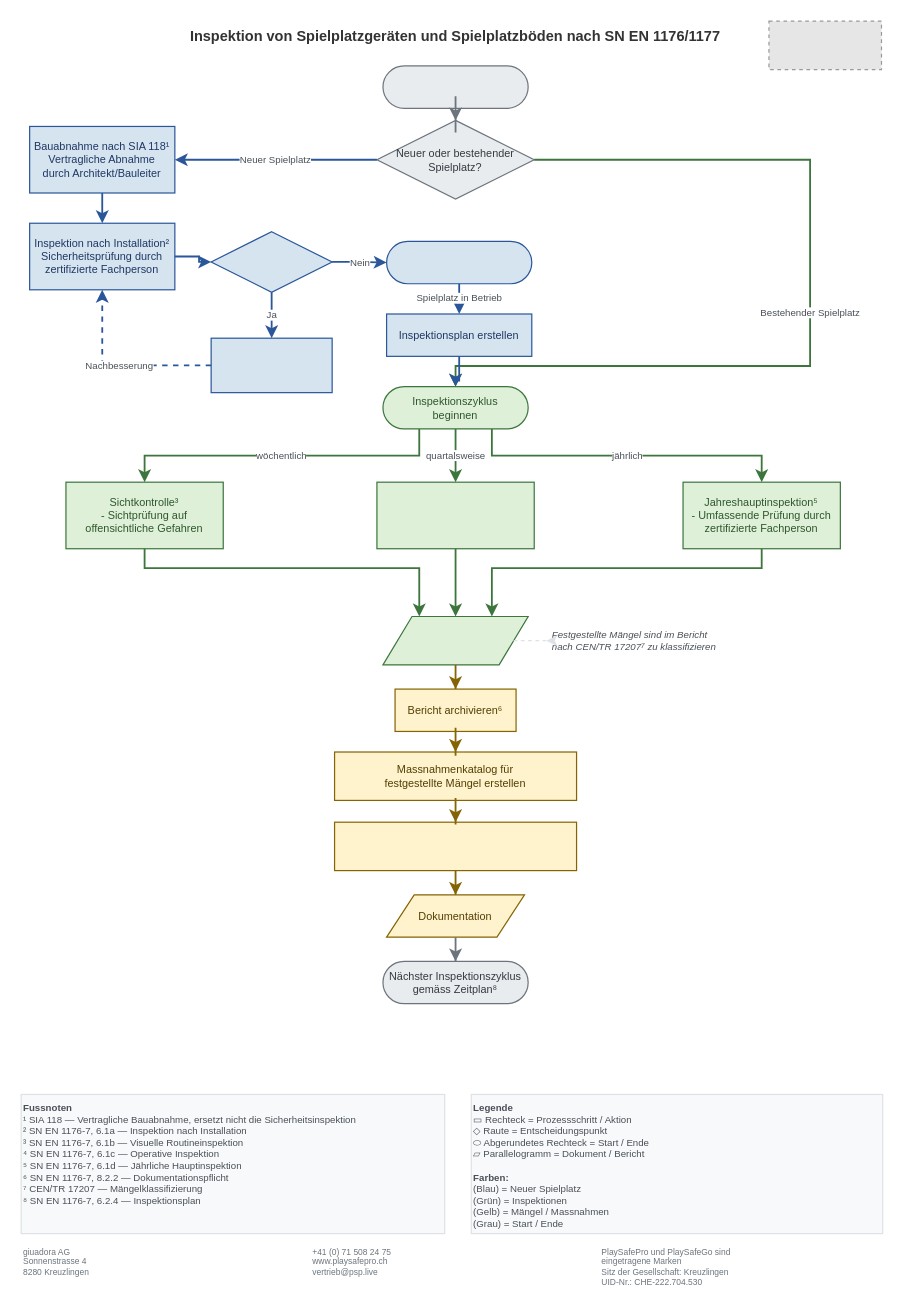
This 910x1310 diagram has some shape labels left out. Grey dashed boxes stand in for pictures. The shapes that lost their labels are listed below. From the top down, each one's centre as x and y in pixels, then its label:
At (x=455, y=86): "Spielplatz-Inspektionen".
At (x=271, y=261): "Mängel festgestellt?".
At (x=458, y=262): "Spielplatz eröffnen".
At (x=271, y=365): "Mängel an Ersteller/ Hersteller zurück zur Behebung".
At (x=455, y=515): "Funktionskontrolle⁴ - Funktionsprüfung, Verschleiss, Stabilität".
At (x=455, y=640): "Inspektionsbericht erstellen".
At (x=455, y=846): "Massnahmen umsetzen und Mängel beheben".
